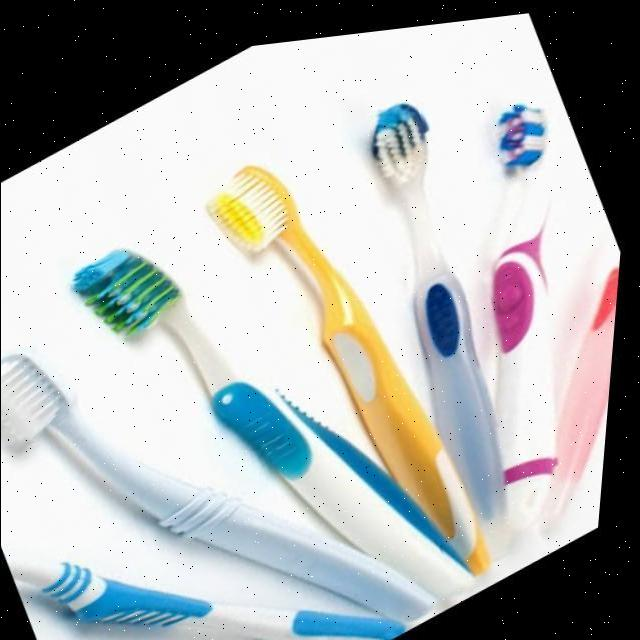toothbrush: (69, 224, 486, 608), (0, 338, 446, 620), (208, 151, 498, 577), (371, 94, 507, 577), (16, 539, 412, 640), (490, 99, 574, 568), (546, 248, 624, 544)
